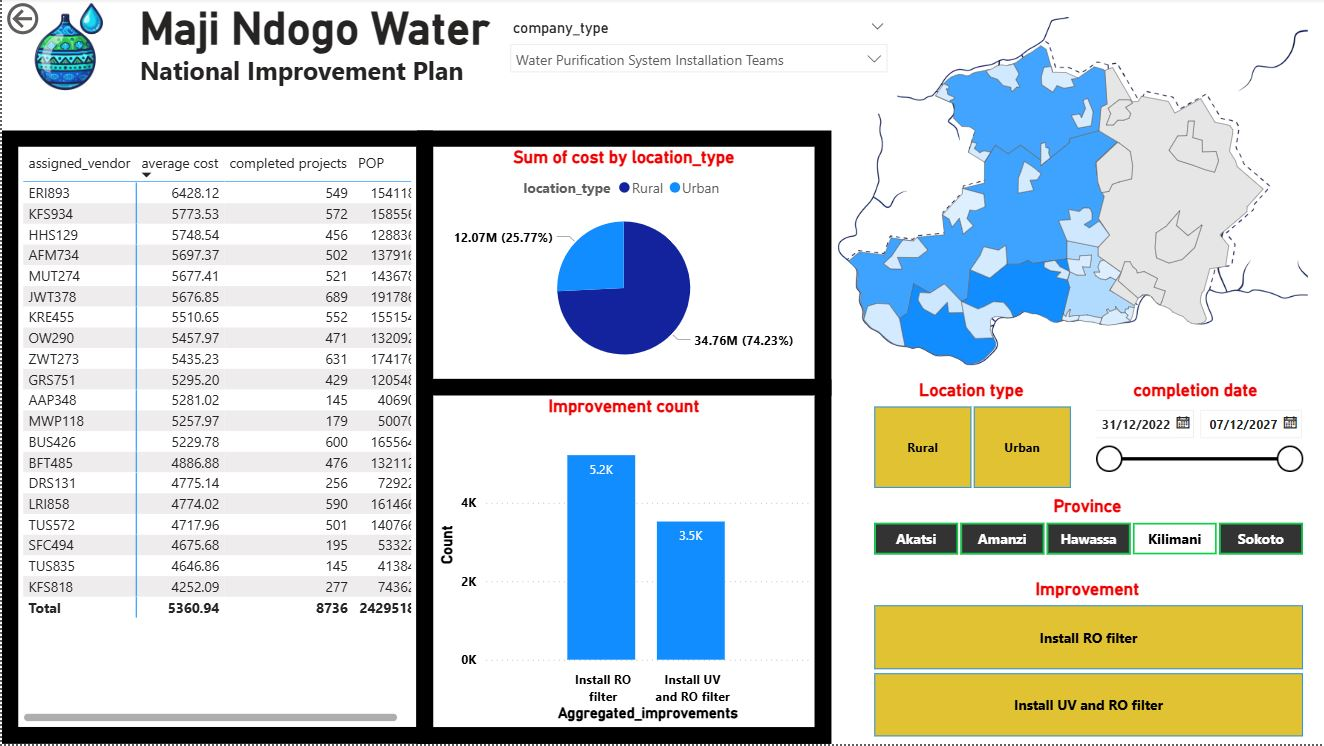

The dashboard page shown, as its layout file describes it:
{"tool":"powerbi","page":{"name":"vendors charges","canvas":[1280,720],"ordinal":3},"visuals":[{"type":"shape","box":[0,128,416,592],"z":0},{"type":"shape","box":[400,128,400,256],"z":1000},{"type":"pivotTable","fields":{"Rows":["project_progress.assigned_vendor"],"Values":["Avg(project_progress.cost)","CountNonNull(project_progress.assigned_vendor)","Sum(water_source.number_of_people_served)"]},"box":[16,144,384,560],"z":2000},{"type":"slicer","title":"Improvement","fields":{"Values":["project_progress.Aggregated_improvements"]},"box":[816,560,464,160],"z":3000},{"type":"pieChart","fields":{"Category":["location.location_type"],"Y":["Sum(project_progress.cost)"]},"box":[416,144,368,224],"z":4000},{"type":"slicer","title":"Province","fields":{"Values":["location.province_name"]},"box":[816,480,464,64],"z":5000},{"type":"group","id":"g1","title":"Group 4","box":[400,0,864,720],"z":6000},{"type":"slicer","title":"completion date","fields":{"Values":["project_progress.date_of_completion"]},"box":[1040,368,224,96],"z":7000},{"type":"image","box":[797.7,0,466.3,400],"z":8000,"group":"g1"},{"type":"clusteredColumnChart","title":"Improvement count","fields":{"Category":["project_progress.Aggregated_improvements"],"Y":["CountNonNull(project_progress.Aggregated_improvements)"]},"box":[416,384,368,320],"z":8000},{"type":"shapeMap","fields":{"Category":["location.town_name"],"Value":["Sum(project_progress.cost)"]},"box":[784,24.2,466.3,351.5],"z":9000,"group":"g1"},{"type":"slicer","title":"Location type","fields":{"Values":["location.location_type"]},"box":[816,368,240,112],"z":9000},{"type":"shape","box":[400,368,400,352],"z":9500,"group":"g1"},{"type":"textbox","box":[128,0,352,96],"z":10000},{"type":"image","box":[0,0,128,96],"z":11000},{"type":"actionButton","box":[0,0,100,40],"z":12000},{"type":"slicer","fields":{"Values":["vendors.company_type"]},"box":[480,16,384,96],"z":13000}]}

Visuals, with their boxes in screenshot pixels (x1, y1, x2, y2), scaled from the page's 1280x720 canvas onto the 1324x746 screenshot:
shape: (x1=0, y1=133, x2=430, y2=745)
shape: (x1=414, y1=133, x2=828, y2=398)
pivotTable - project_progress.assigned_vendor x Avg(project_progress.cost): (x1=17, y1=149, x2=414, y2=729)
"Improvement" slicer: (x1=844, y1=580, x2=1323, y2=745)
pieChart - location.location_type x Sum(project_progress.cost): (x1=430, y1=149, x2=811, y2=381)
"Province" slicer: (x1=844, y1=497, x2=1323, y2=564)
"Group 4" group: (x1=414, y1=0, x2=1307, y2=745)
"completion date" slicer: (x1=1076, y1=381, x2=1307, y2=481)
image: (x1=825, y1=0, x2=1307, y2=414)
"Improvement count" clusteredColumnChart: (x1=430, y1=398, x2=811, y2=729)
shapeMap - location.town_name x Sum(project_progress.cost): (x1=811, y1=25, x2=1293, y2=389)
"Location type" slicer: (x1=844, y1=381, x2=1092, y2=497)
shape: (x1=414, y1=381, x2=828, y2=745)
textbox: (x1=132, y1=0, x2=496, y2=99)
image: (x1=0, y1=0, x2=132, y2=99)
actionButton: (x1=0, y1=0, x2=103, y2=41)
slicer - vendors.company_type: (x1=496, y1=17, x2=894, y2=116)
